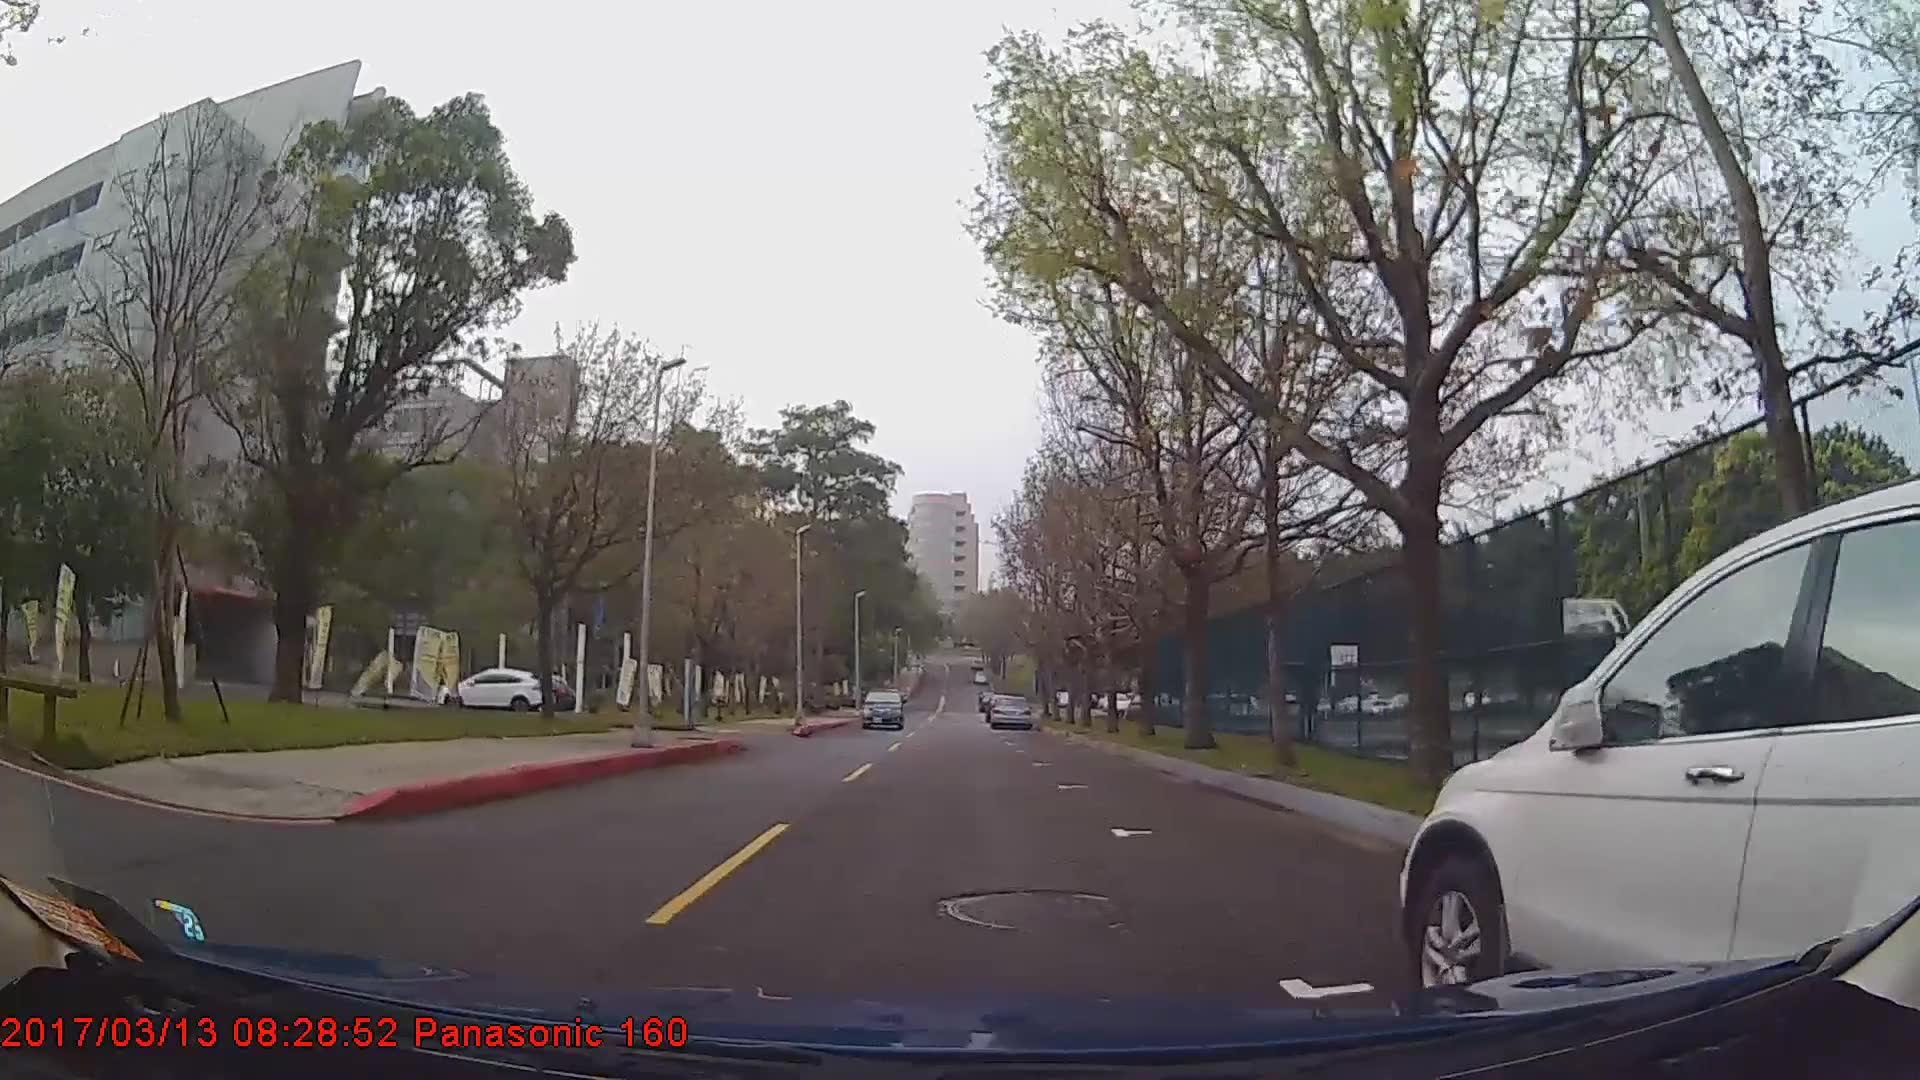vehicle: (1396, 480, 1920, 1022), (439, 665, 553, 713), (861, 684, 905, 731), (988, 694, 1033, 732)
